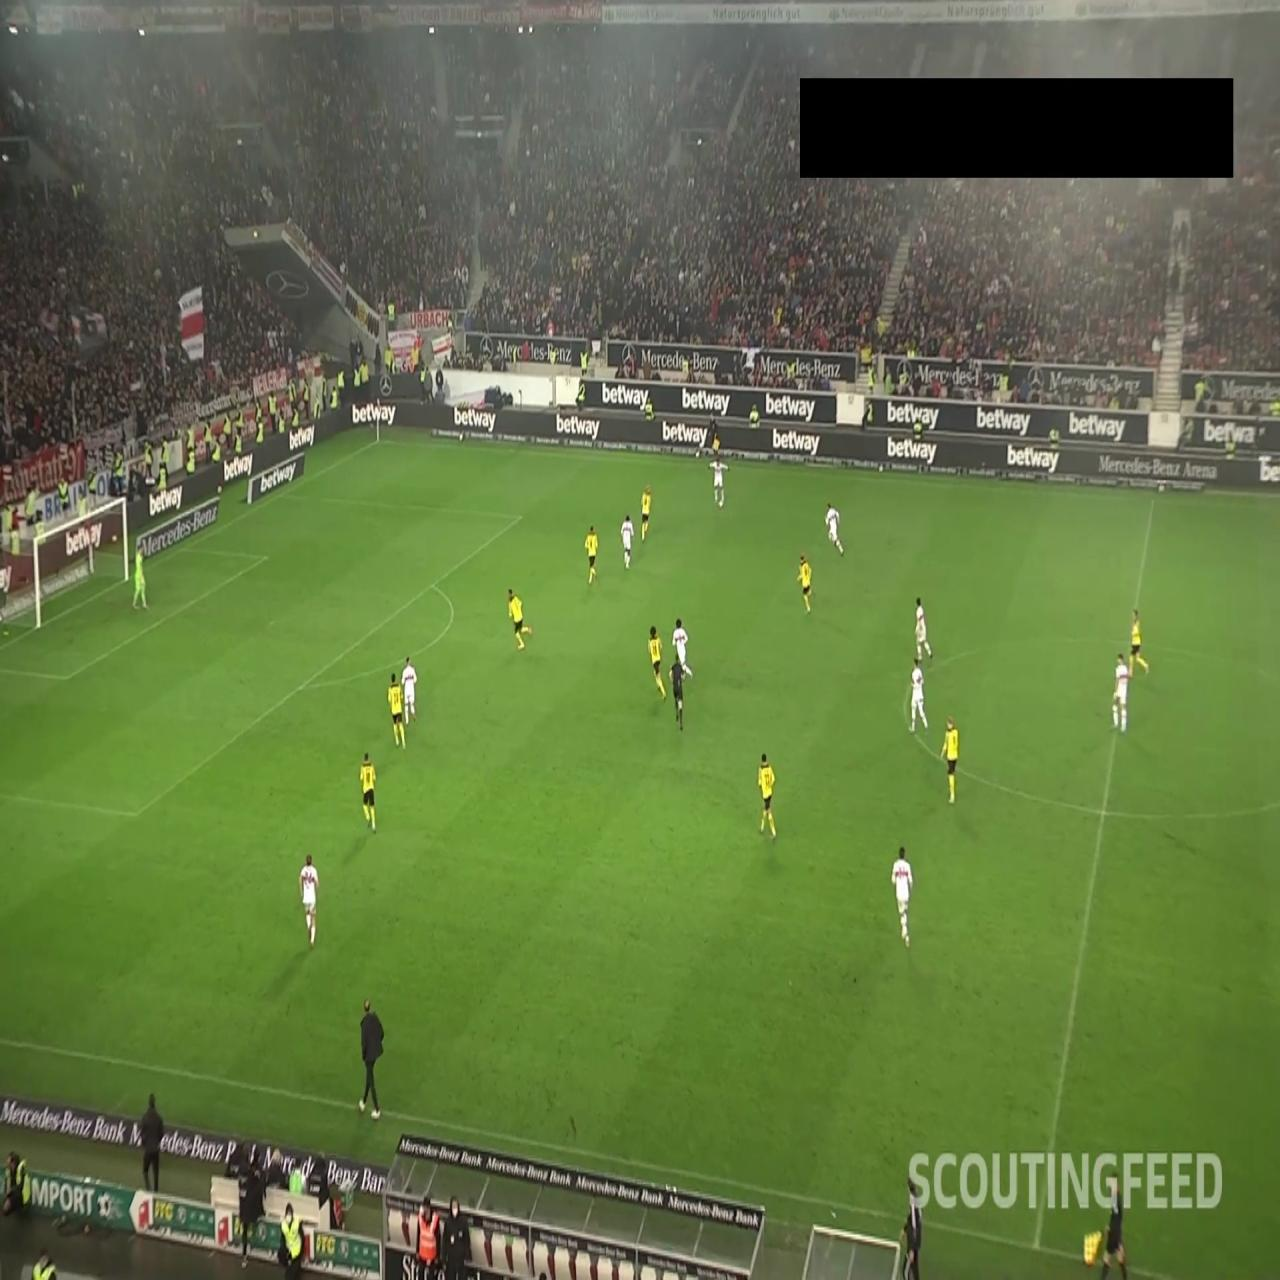ball: (718, 499, 724, 510)
goalkeeper: (132, 544, 149, 610)
player: (891, 845, 913, 947), (299, 852, 320, 948), (757, 752, 777, 842), (940, 714, 959, 804), (387, 671, 407, 751), (1128, 608, 1150, 679), (909, 658, 929, 734), (360, 751, 378, 832), (1112, 652, 1130, 732), (648, 625, 667, 698), (507, 588, 528, 651), (400, 656, 418, 726), (914, 596, 932, 663), (672, 616, 691, 678), (708, 452, 729, 506), (825, 501, 844, 556), (796, 552, 812, 614), (584, 524, 599, 585), (620, 512, 634, 569), (640, 482, 653, 540)
referee: (1082, 1174, 1128, 1280), (669, 654, 689, 731), (708, 411, 721, 460)
